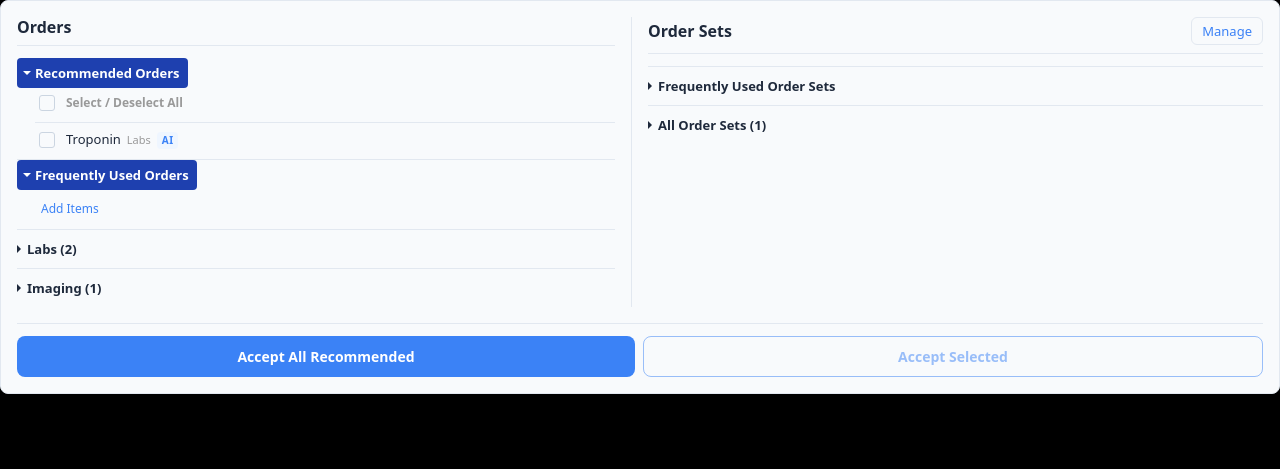
Scenario: OrdersCard › renders subcategory groups when category expanded
Note: Expand Labs
Click the button "Labs (2)" at x=47, y=249, box [17,230,76,268]
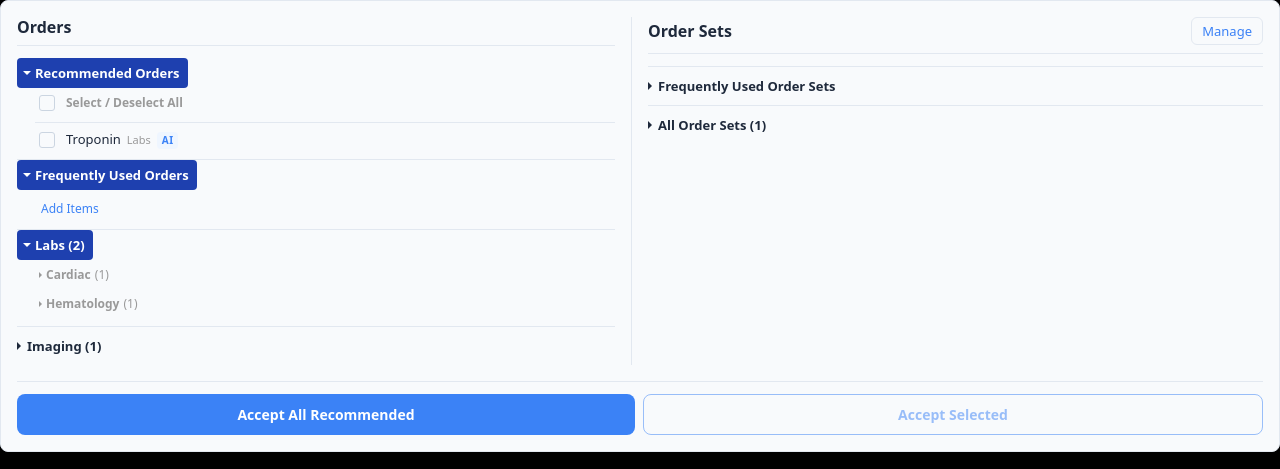
Now the text "Cardiac" is shown, box [46,266,91,283]
Now the text "Hematology" is shown, box [46,295,120,312]
